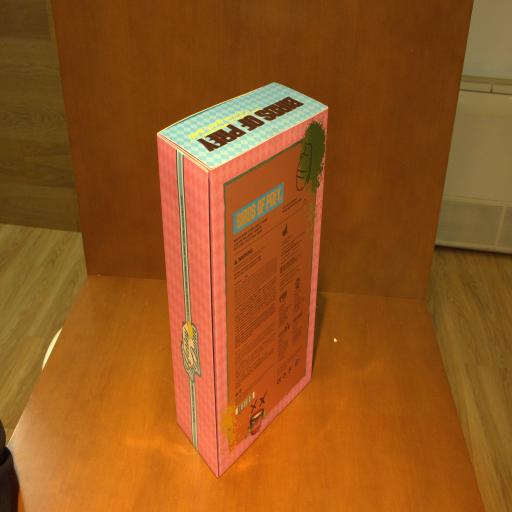Harley: (157, 78, 328, 476)
